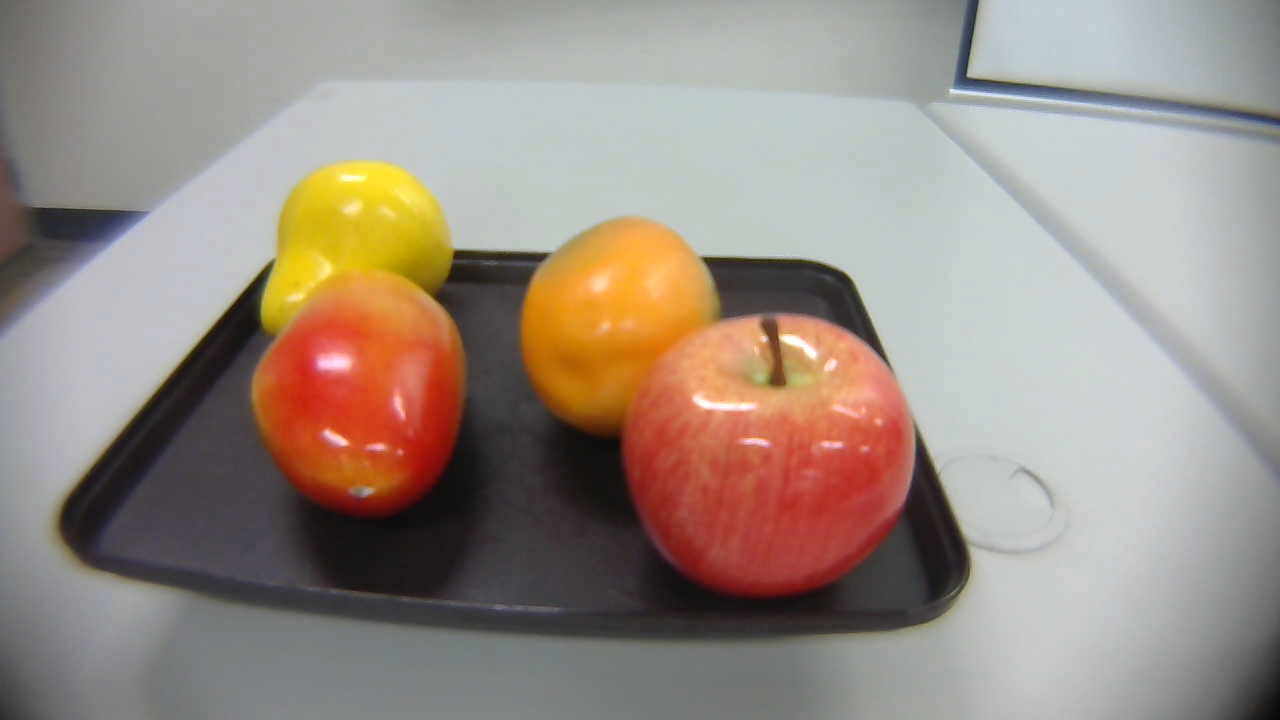papya: (523, 213, 717, 439)
red apple: (615, 311, 925, 614)
red mango: (250, 261, 478, 541)
yellow pear: (257, 154, 465, 341)
